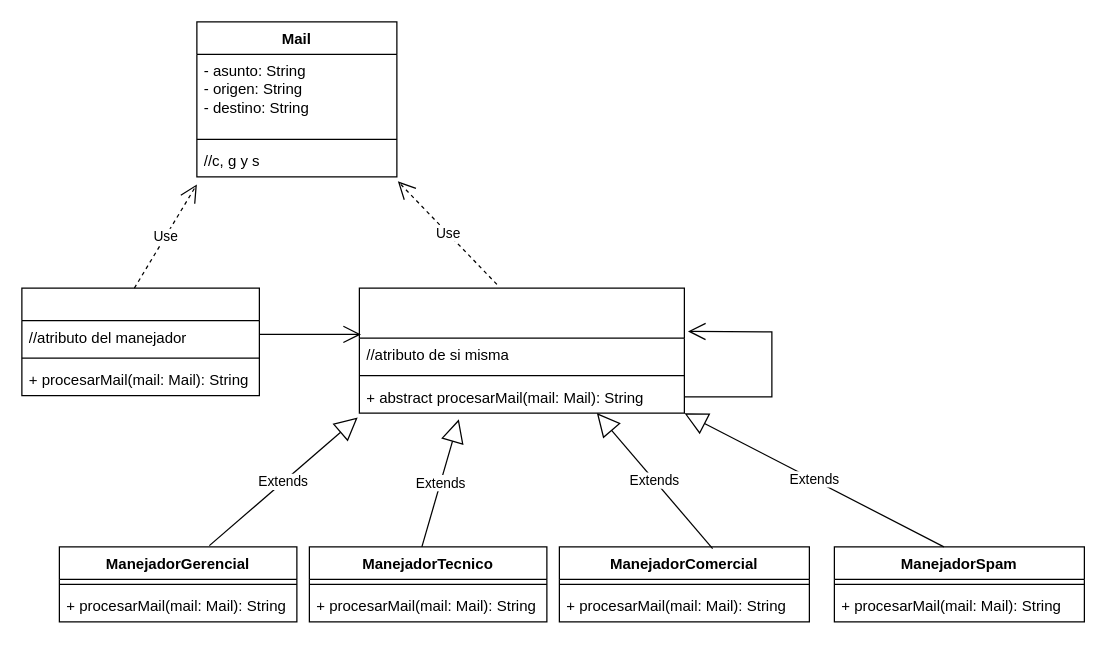
Image size: 1106x648. Some labels were removed from this diagram. The box of each missing label's shape, as (x1, y1, x2, y2) in pixels:
<<abstract>> ManejadorMail: (358, 287, 684, 413)
CompruebaMail: (21, 287, 259, 396)
